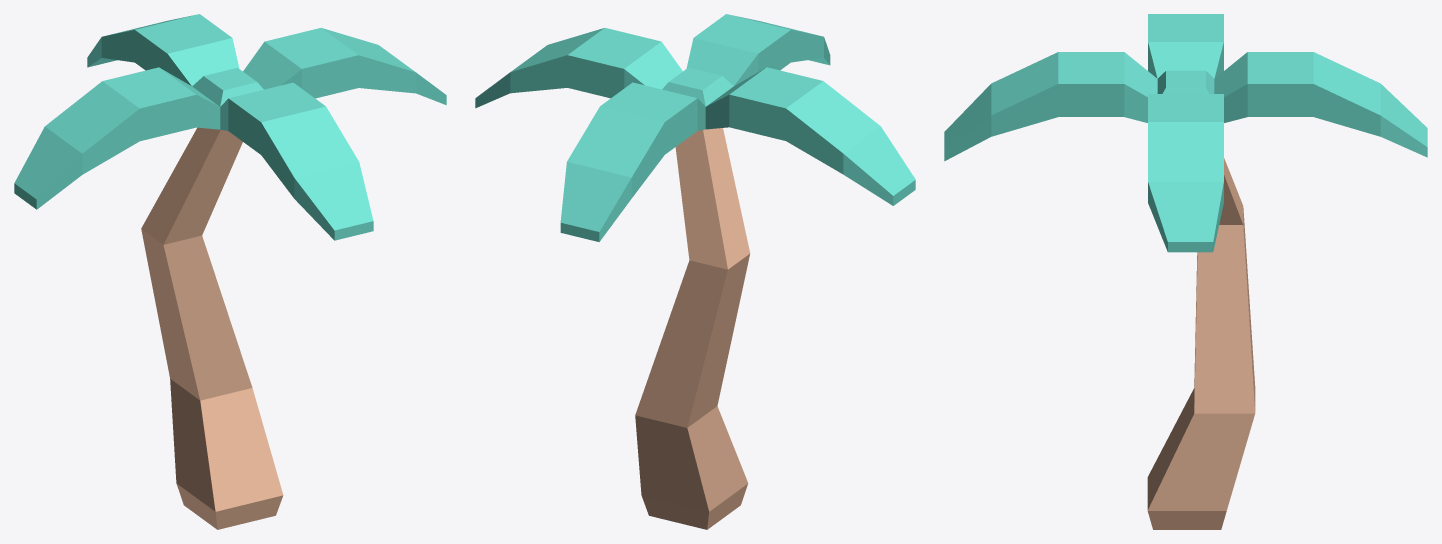
The model's file is tree_palmShort.glb.
The picture shows the model from 3 angles, left to right: view 1: azimuth 30°, elevation 25°; view 2: azimuth 150°, elevation 25°; view 3: azimuth 270°, elevation 25°; orthographic projection.
Parts seen in each view (by area): view 1: tree_palmShort; view 2: tree_palmShort; view 3: tree_palmShort.
Boxes of the visible parts, left/top/right/bottom form: tree_palmShort: left=14, top=14, right=446, bottom=529; tree_palmShort: left=475, top=14, right=915, bottom=529; tree_palmShort: left=944, top=14, right=1427, bottom=529.
Size of the model in its own units: 1.2 by 1.23 by 1.2.
